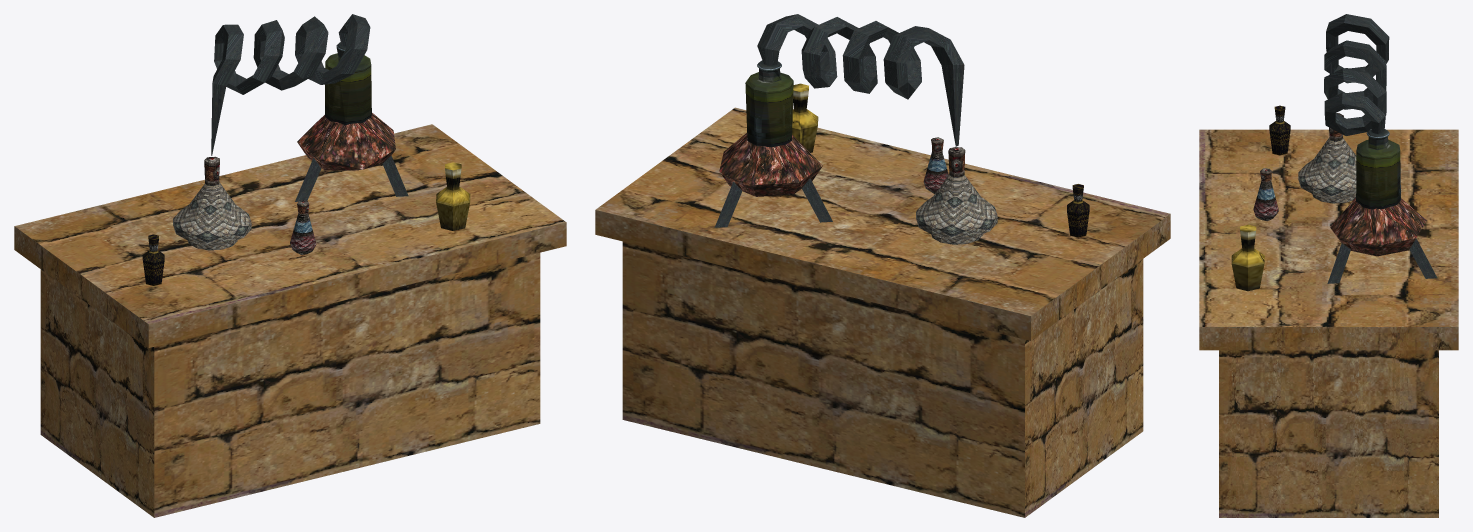
Rendered from alchemik.glb.
The picture shows the model from 3 angles, left to right: view 1: azimuth 30°, elevation 25°; view 2: azimuth 150°, elevation 25°; view 3: azimuth 270°, elevation 25°; orthographic projection. The views are drawn at different scales.
Visible parts, largest first — view 1: zm_Frill; view 2: zm_Frill; view 3: zm_Frill.
Part boxes in pixels (x1,y1,x2,y2): zm_Frill: [14, 14, 566, 517]; zm_Frill: [595, 14, 1170, 517]; zm_Frill: [1199, 14, 1458, 517].
Size of the model in its own units: 1.83 by 1.68 by 1.02.
6 materials, 6 textured.
